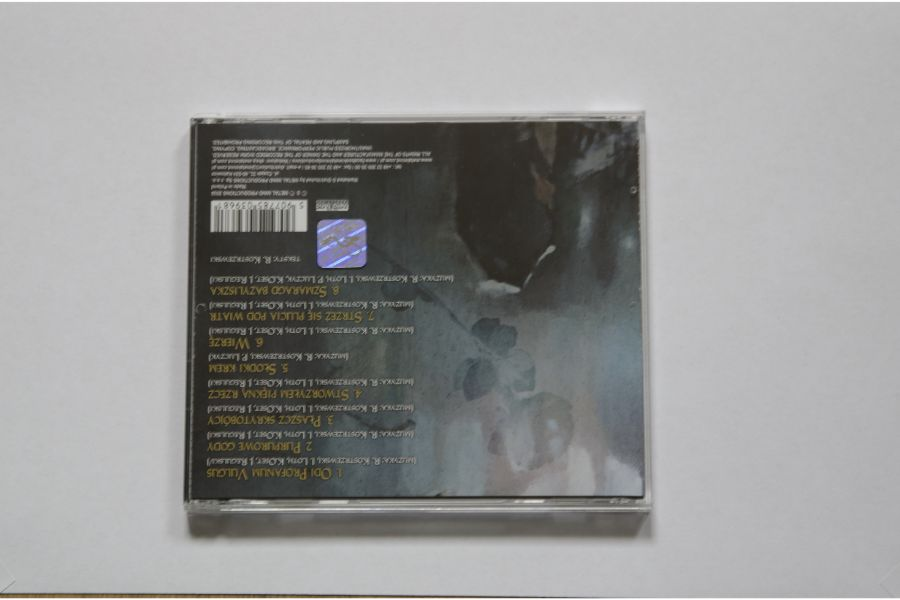album: (183, 113, 652, 517)
